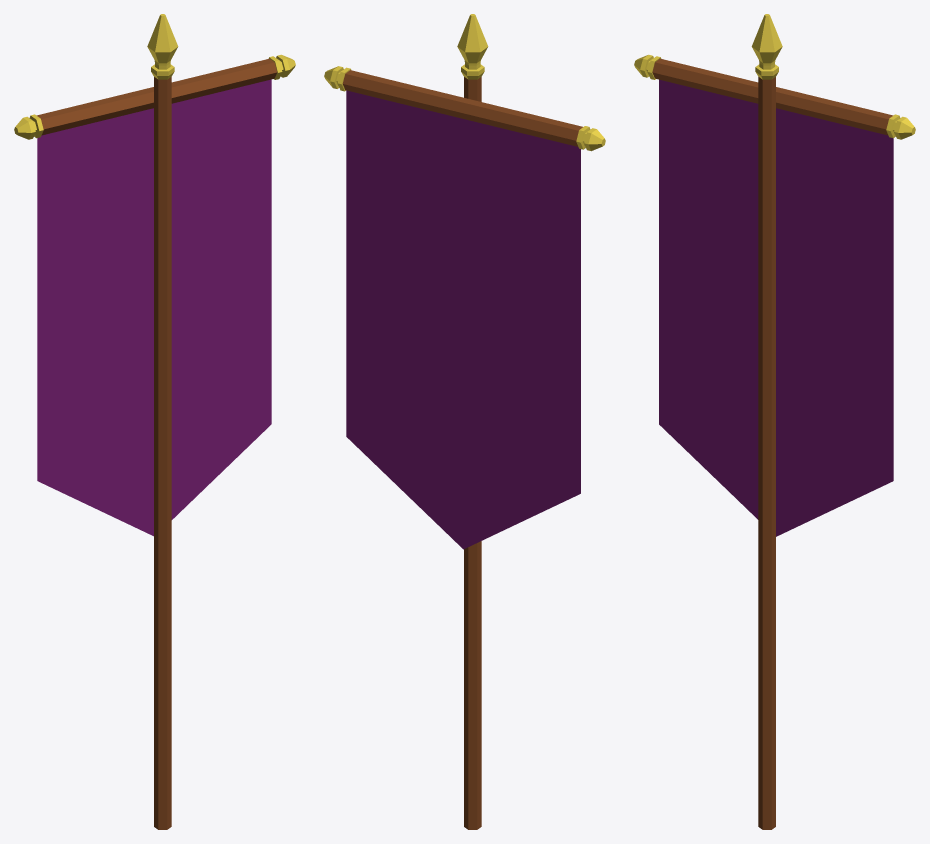
The model's file is stand_flag.fbx.
3 renders of one model, left to right at view 1: azimuth 30°, elevation 25°; view 2: azimuth 150°, elevation 25°; view 3: azimuth 330°, elevation 25°, orthographic.
Parts seen in each view (by area): view 1: 4flags; view 2: 4flags; view 3: 4flags.
Part boxes in pixels (x1,y1,x2,y2): 4flags: (14, 14, 295, 829); 4flags: (324, 14, 605, 829); 4flags: (634, 14, 915, 829).
Bounding box in the file's own units: 83.17 × 232 × 11.15.
